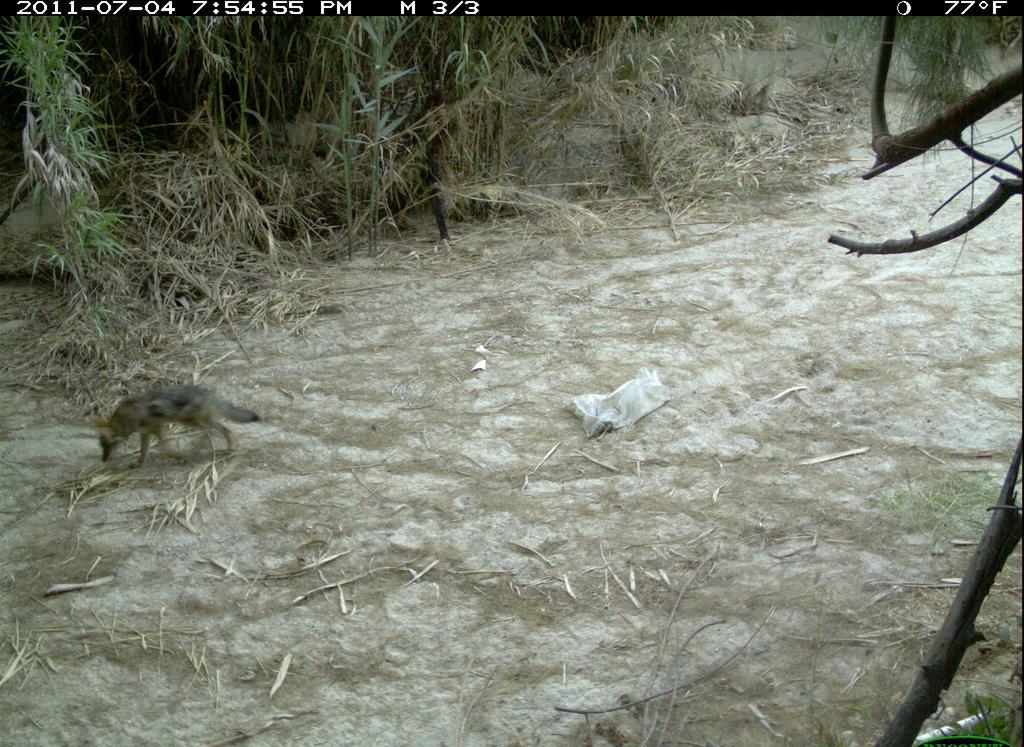coyote: (94, 381, 264, 477)
